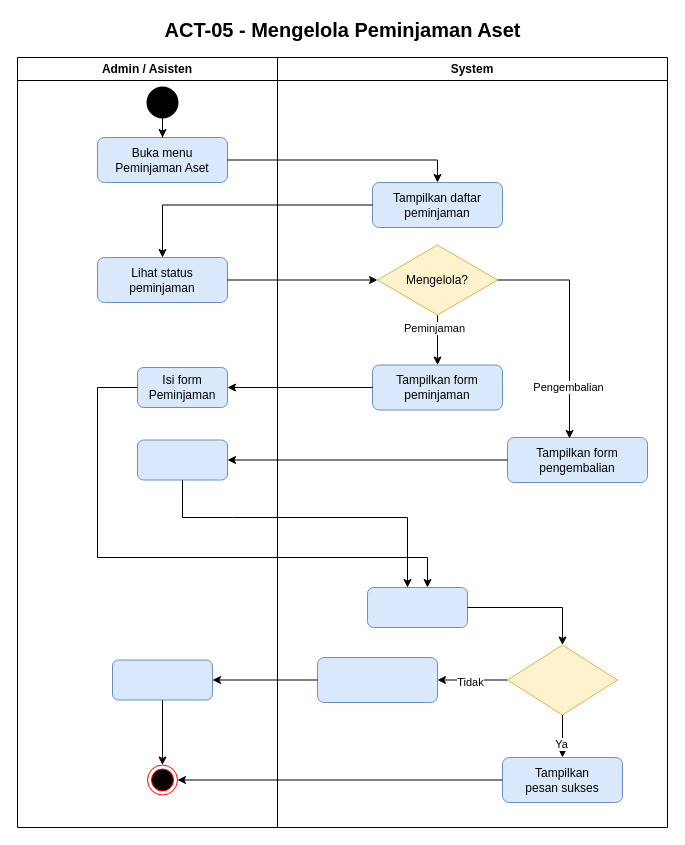
This 685x845 diagram has some shape labels left out. Each missing label, with the box of its shape:
Isi form Pengembalian: (136, 439, 228, 480)
Perbaiki data: (112, 659, 212, 700)
Tampilkan pesan error: (316, 656, 438, 702)
Valid?: (506, 644, 618, 715)
Validasi: (366, 586, 468, 628)
